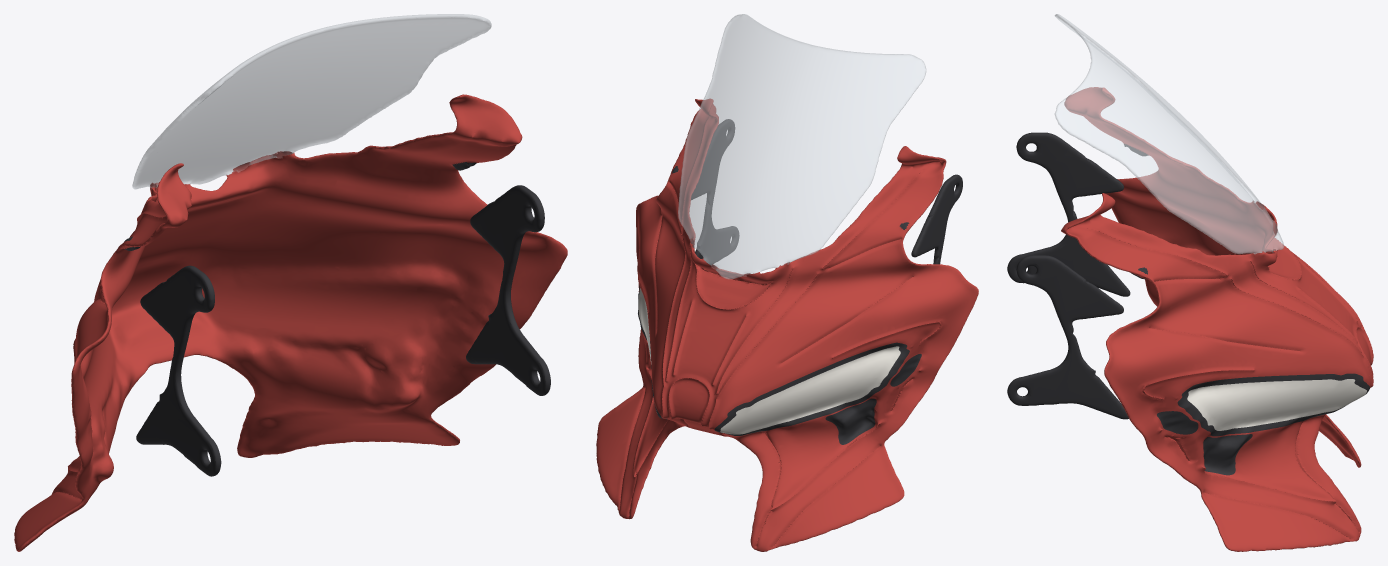
The model's file is naked_1.glb.
3 renders of one model, left to right at view 1: azimuth 30°, elevation 25°; view 2: azimuth 150°, elevation 25°; view 3: azimuth 270°, elevation 25°, orthographic. The views are drawn at different scales.
Visible parts, largest first — view 1: lod0; view 2: lod0; view 3: lod0.
Part boxes in pixels (x1,y1,x2,y2): lod0: (14, 14, 567, 551); lod0: (596, 14, 978, 551); lod0: (1007, 14, 1373, 551).
Size of what is drawn, in the model's own units: 0.4165 by 0.4674 by 0.3497.
